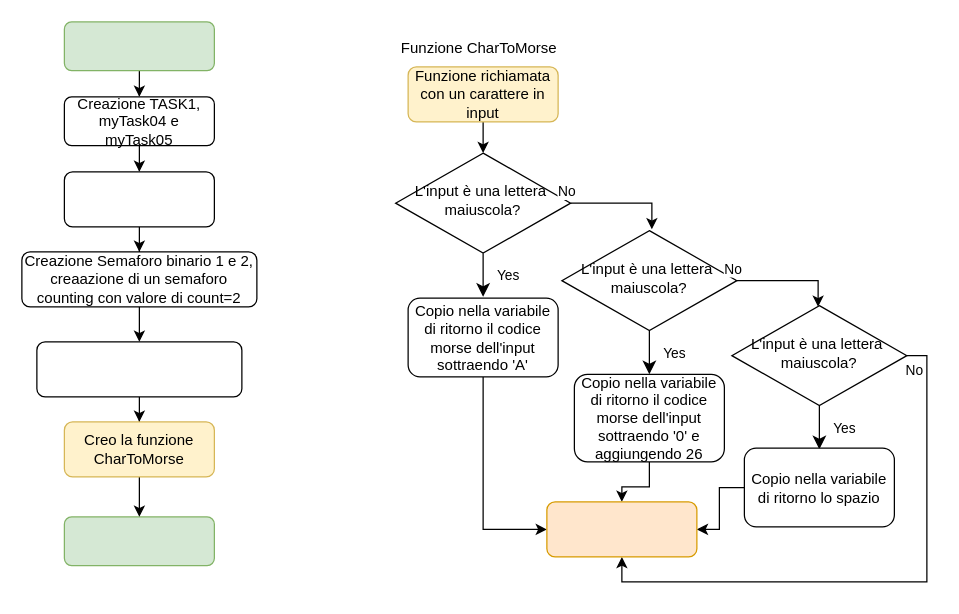
Some shapes in this 959 by 614 pixel diagram are drawn without their labels. The centre of each missing label's shape, as x and y in pixels:
"Creazione QueueLED e Queue Seriale" belongs at point (138, 199).
"Creo una variabile contenente la decodifica in morse di ogni carattere richiesto" belongs at point (139, 369).
"Ritorno il puntatore alla variabile" belongs at point (621, 529).
"Run code" belongs at point (138, 541).
"Start" belongs at point (138, 46).
